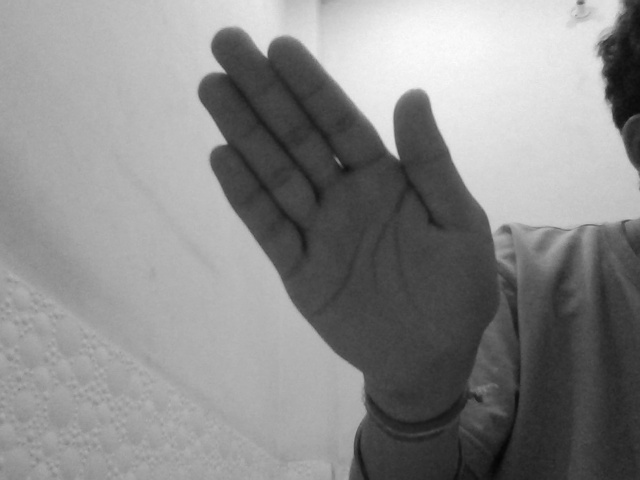Hello: (198, 22, 494, 402)
